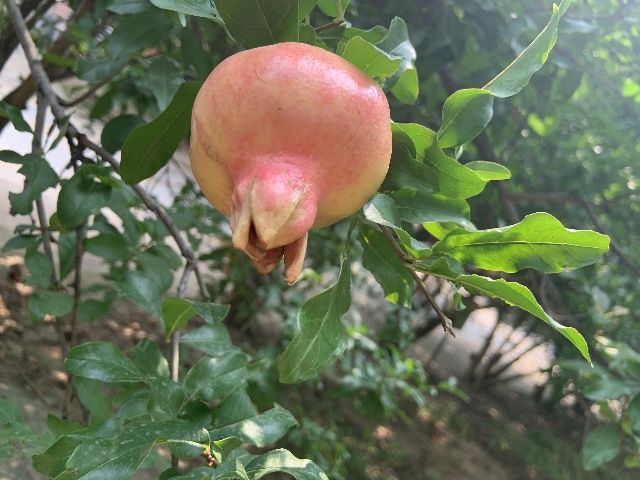ripe: (189, 42, 391, 283)
